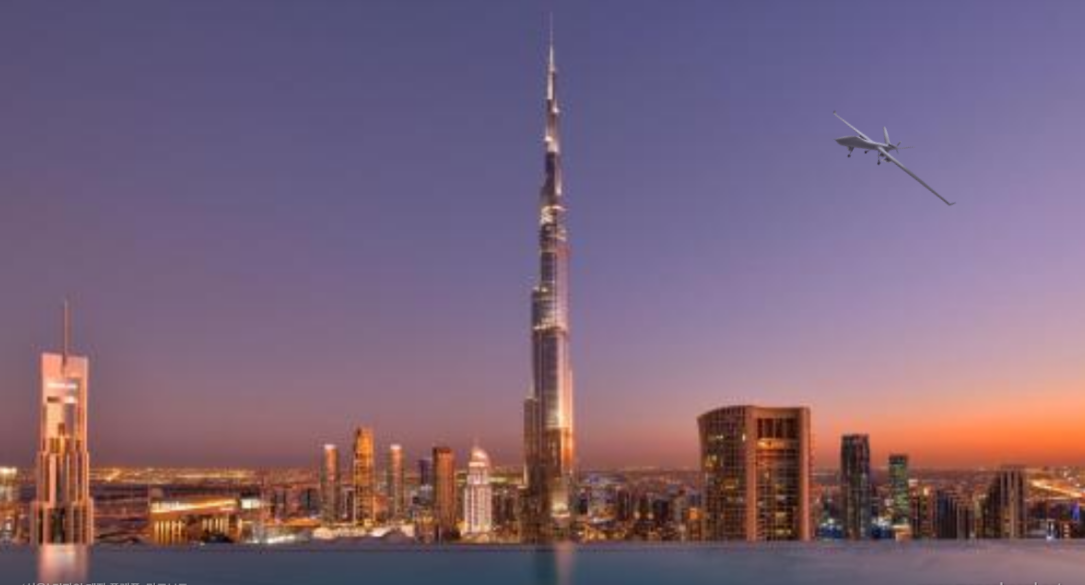military drone: (833, 109, 956, 206)
